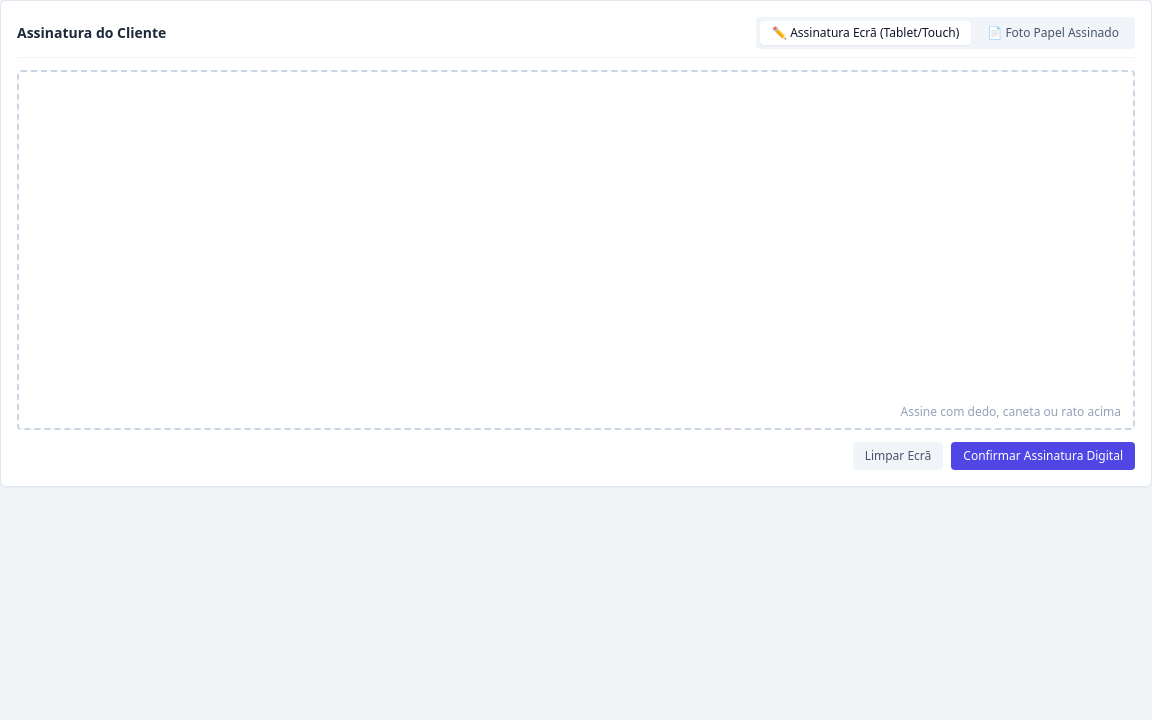
Scenario: Recepção de Viaturas & Componentes de Check-in › SignatureCanvas permite alternar entre Assinatura Ecrã e Foto Papel
The image size is (1152, 720).
Expected: the button "✏️ Assinatura Ecrã (Tablet/Touch)" is shown, [760,21,971,45]
# Alternar para foto papel
Click the button "📄 Foto Papel Assinado": (1053, 33) [975,21,1131,45]
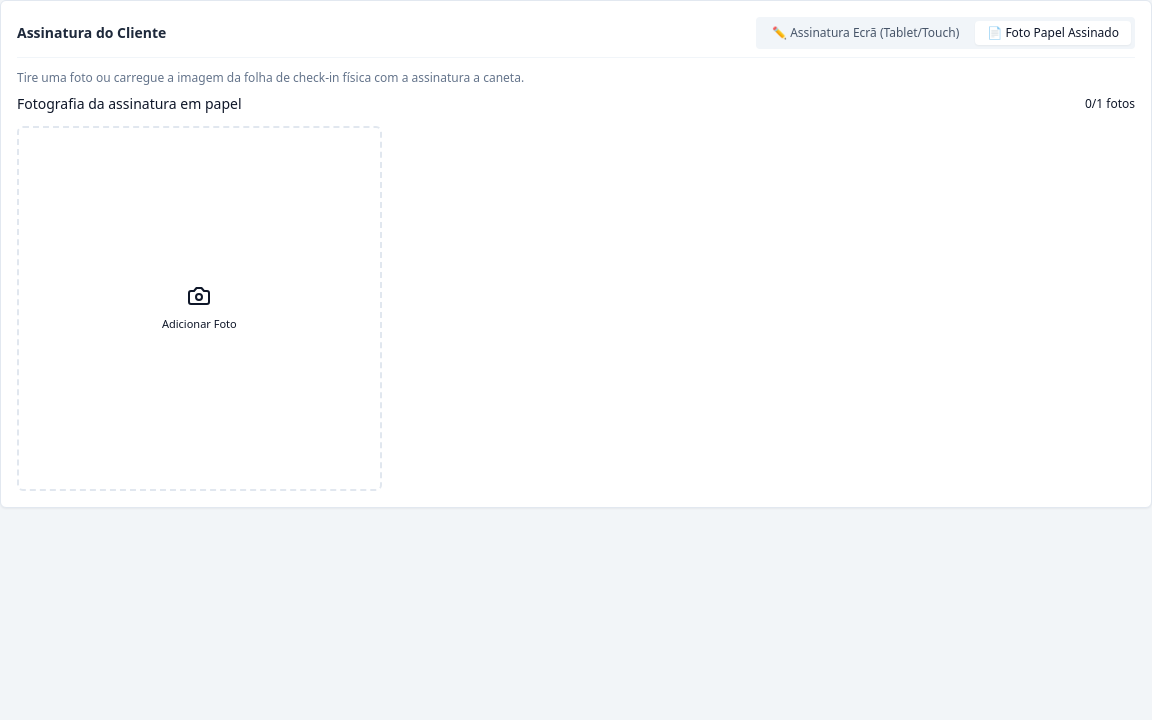
Expected: the text "Tire uma foto ou carregue a imagem" is shown, [17,69,524,86]
